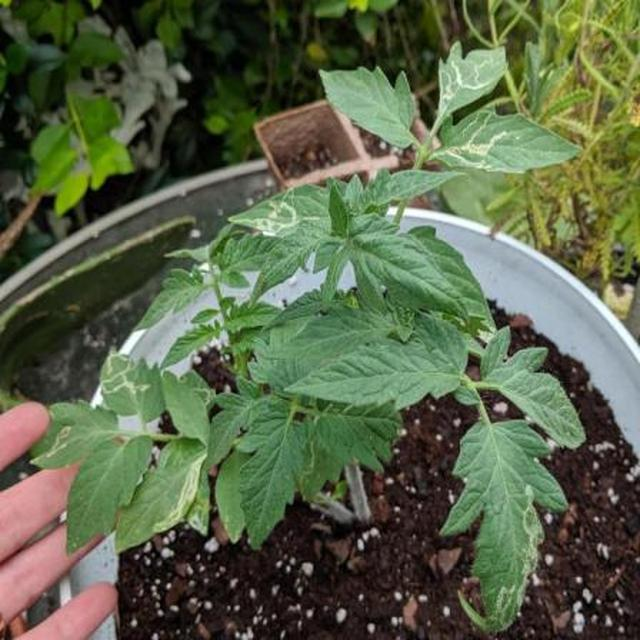Leaf Miner: (73, 78, 640, 640)
